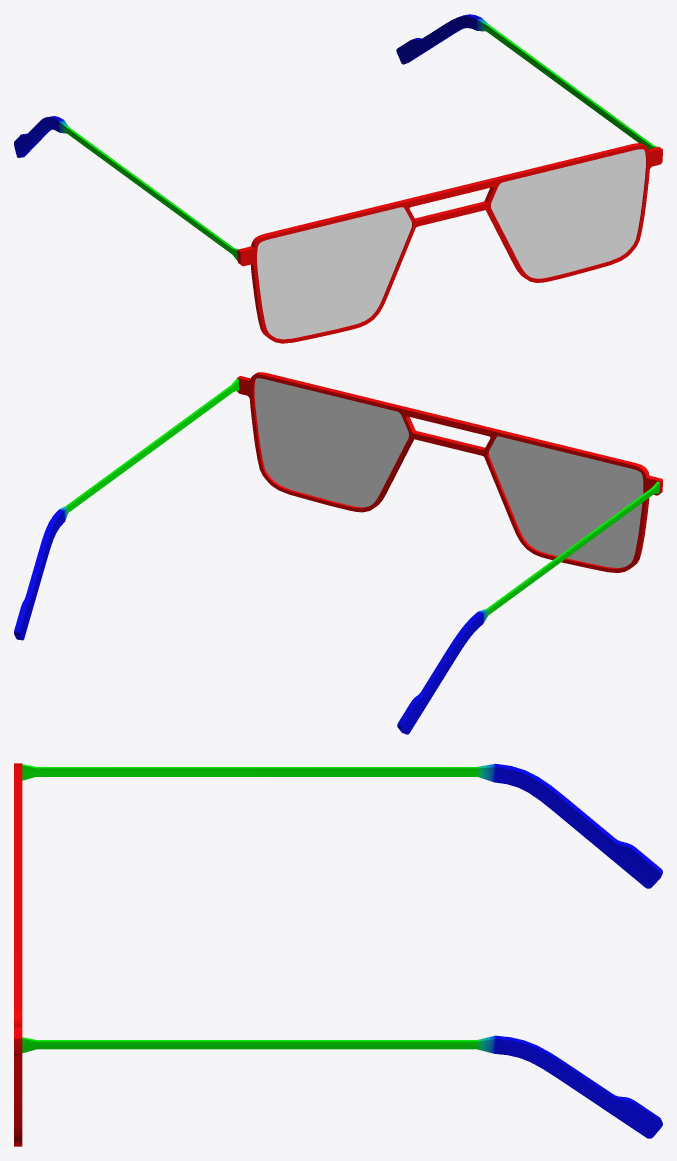
File: ZAIS NeoRetro Glasses Large.fbx
The picture shows the model from 3 angles, top to bottom: view 1: azimuth 30°, elevation 25°; view 2: azimuth 150°, elevation 25°; view 3: azimuth 270°, elevation 25°; orthographic projection. The views are drawn at different scales.
Parts seen in each view (by area): view 1: Zais NeoRetro Frames Large; view 2: Zais NeoRetro Frames Large; view 3: Zais NeoRetro Frames Large.
Part boxes in pixels (x1,y1,x2,y2): Zais NeoRetro Frames Large: (14, 14, 662, 343); Zais NeoRetro Frames Large: (14, 372, 662, 734); Zais NeoRetro Frames Large: (14, 763, 662, 1146).
Bounding box in the file's own units: 0.184 × 0.0474 × 0.1832.
